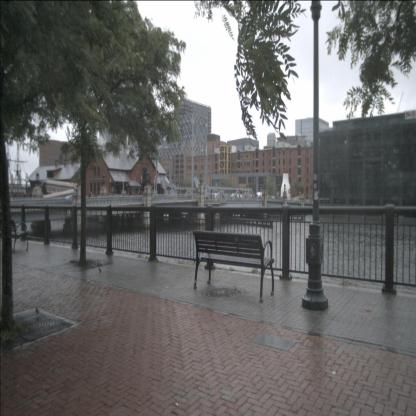vehicle-car: (61, 194, 81, 206)
